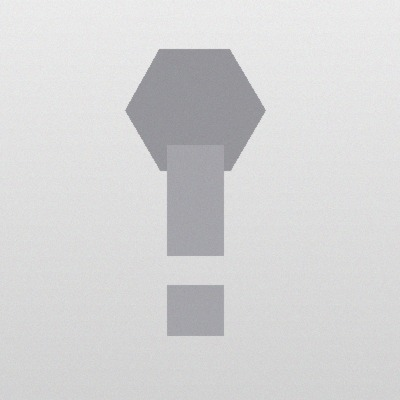broken: (155, 250, 235, 290)
